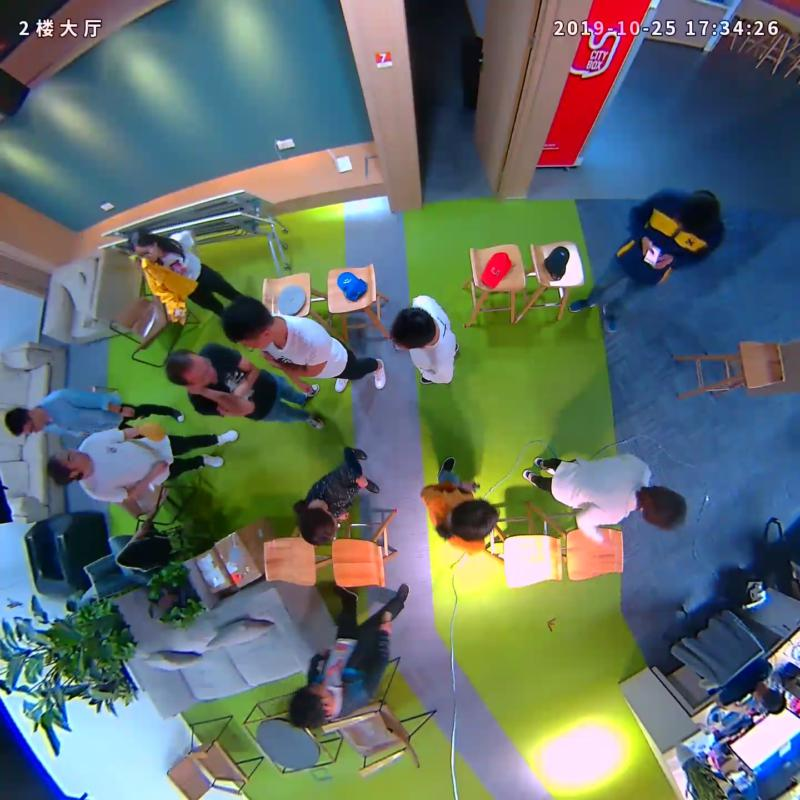head: (221, 298, 273, 348), (452, 497, 498, 543), (164, 348, 214, 390), (641, 485, 687, 530), (288, 684, 334, 727), (391, 307, 436, 350), (678, 189, 720, 235), (46, 449, 91, 483), (299, 506, 337, 546), (3, 406, 47, 436), (127, 229, 159, 264)
